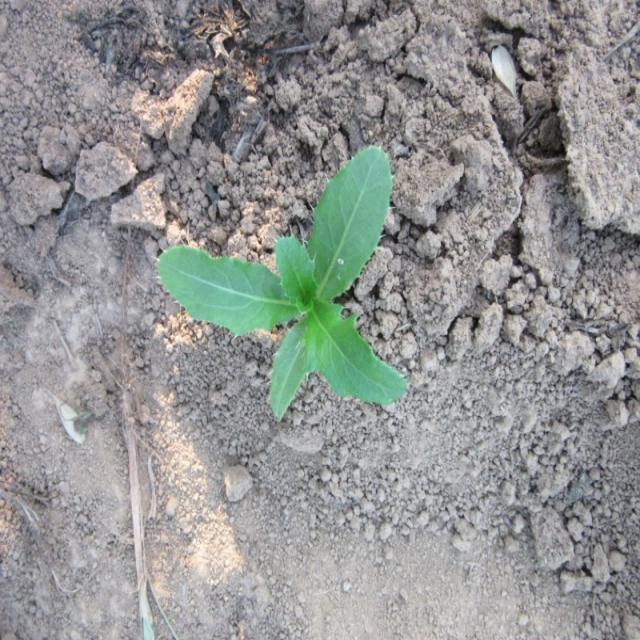cs: (155, 146, 407, 422)
